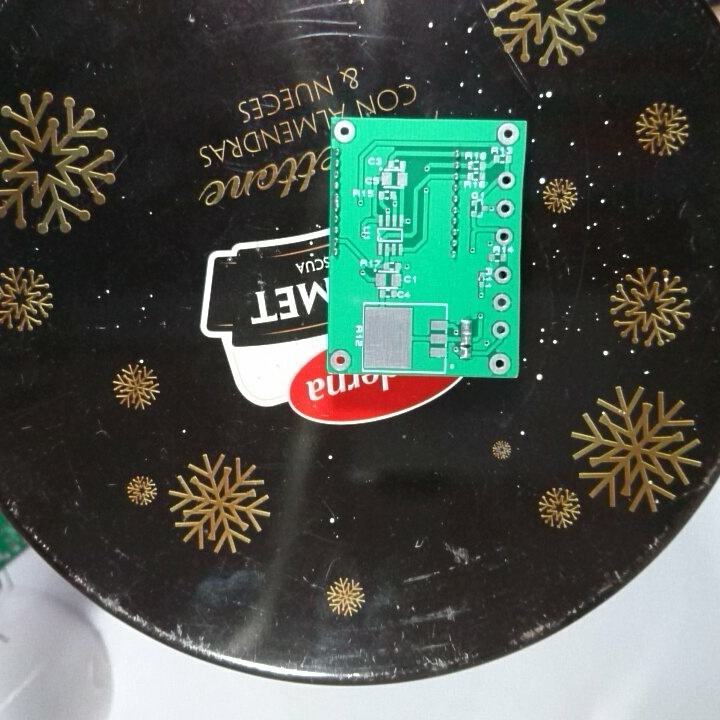F: (487, 350, 514, 376), (332, 117, 357, 145), (494, 121, 522, 146), (328, 346, 353, 372), (494, 196, 517, 221), (489, 292, 514, 314), (495, 169, 517, 192), (491, 265, 514, 286), (490, 320, 513, 341), (494, 226, 516, 247)
P: (457, 316, 474, 347), (331, 191, 343, 215)
